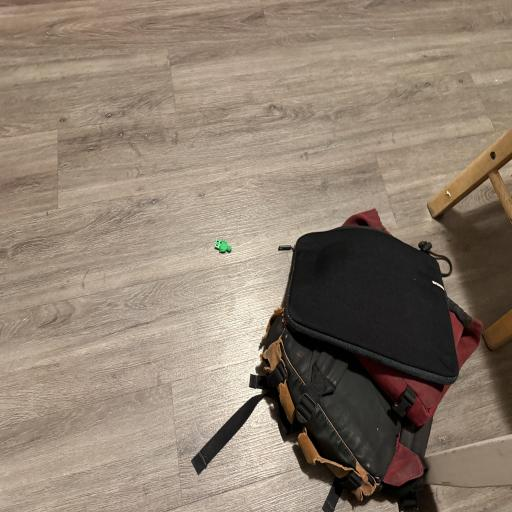Minifig: (215, 240, 231, 253)
